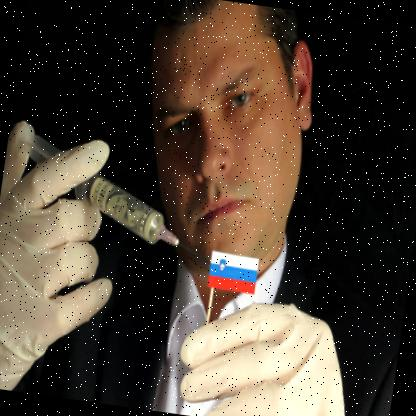si: (207, 250, 262, 295)
